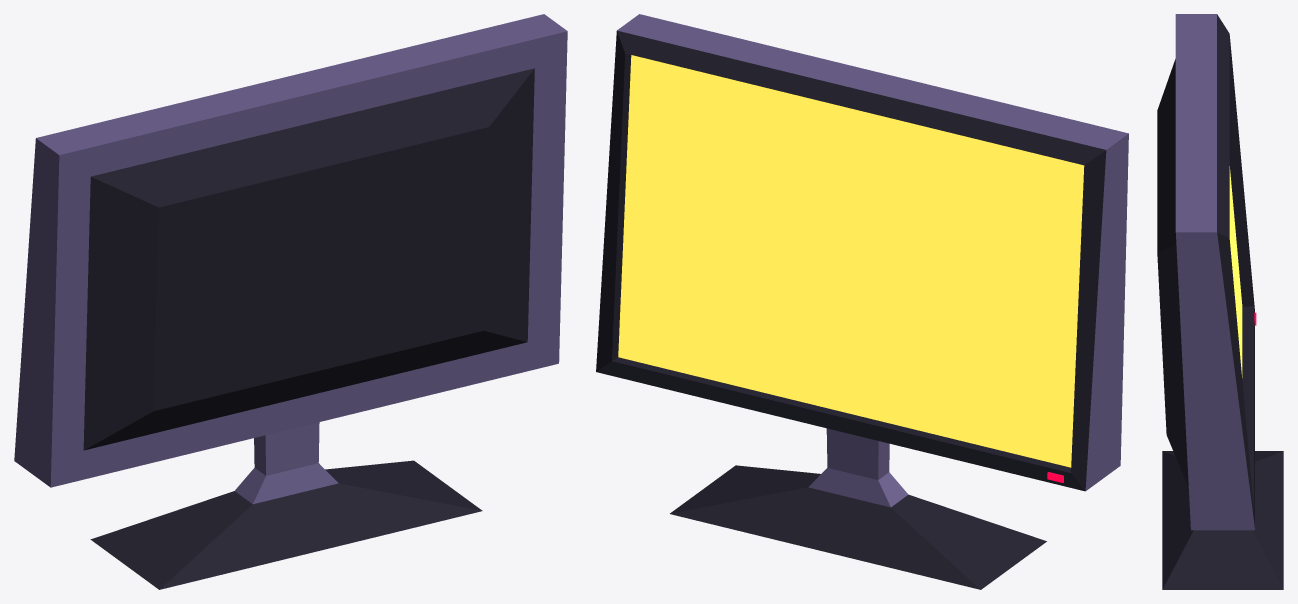
File: Monitor.fbx
3 renders of one model, left to right at view 1: azimuth 30°, elevation 25°; view 2: azimuth 150°, elevation 25°; view 3: azimuth 270°, elevation 25°, orthographic. The views are drawn at different scales.
Parts seen in each view (by area): view 1: Monitor; view 2: Monitor; view 3: Monitor.
Part boxes in pixels (bbox=[...]): Monitor: bbox=[14, 14, 567, 589]; Monitor: bbox=[596, 14, 1128, 589]; Monitor: bbox=[1157, 14, 1283, 589].
Size of the model in its own units: 0.7047 by 0.5983 by 0.1725.
